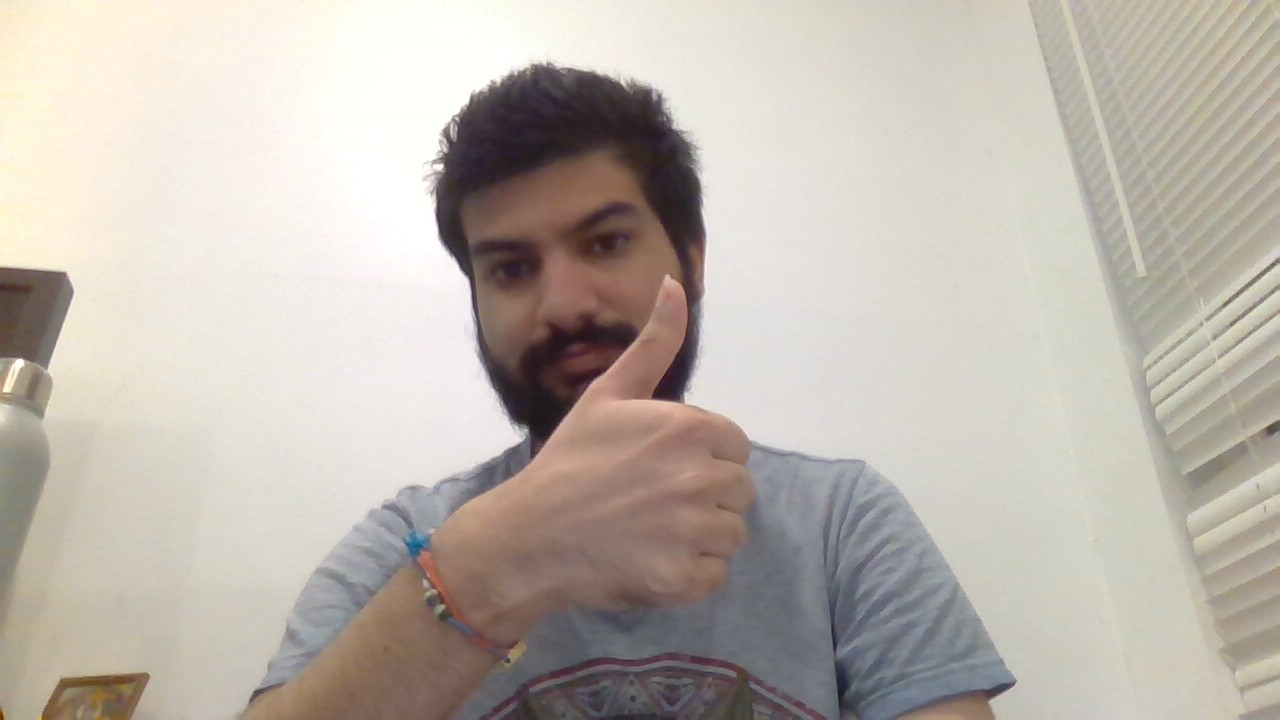up: (561, 275, 783, 611)
